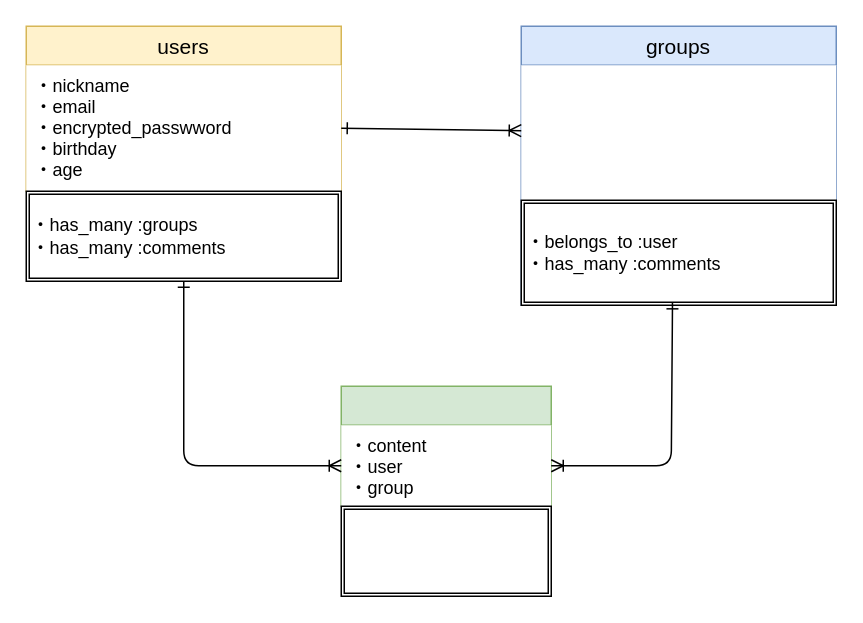
This 863x623 diagram has some shape labels left out. The shapes that lost their labels are listed below. From the top down, each one's box as (x1, y1, x2, y2) in pixels, then its label:
(520, 64, 836, 200): (・image) ・name ・prefecture_id ・city ・introduction ・user
(340, 385, 551, 506): messages
(340, 505, 551, 596): ・belongs_to :user ・belong_to :group
